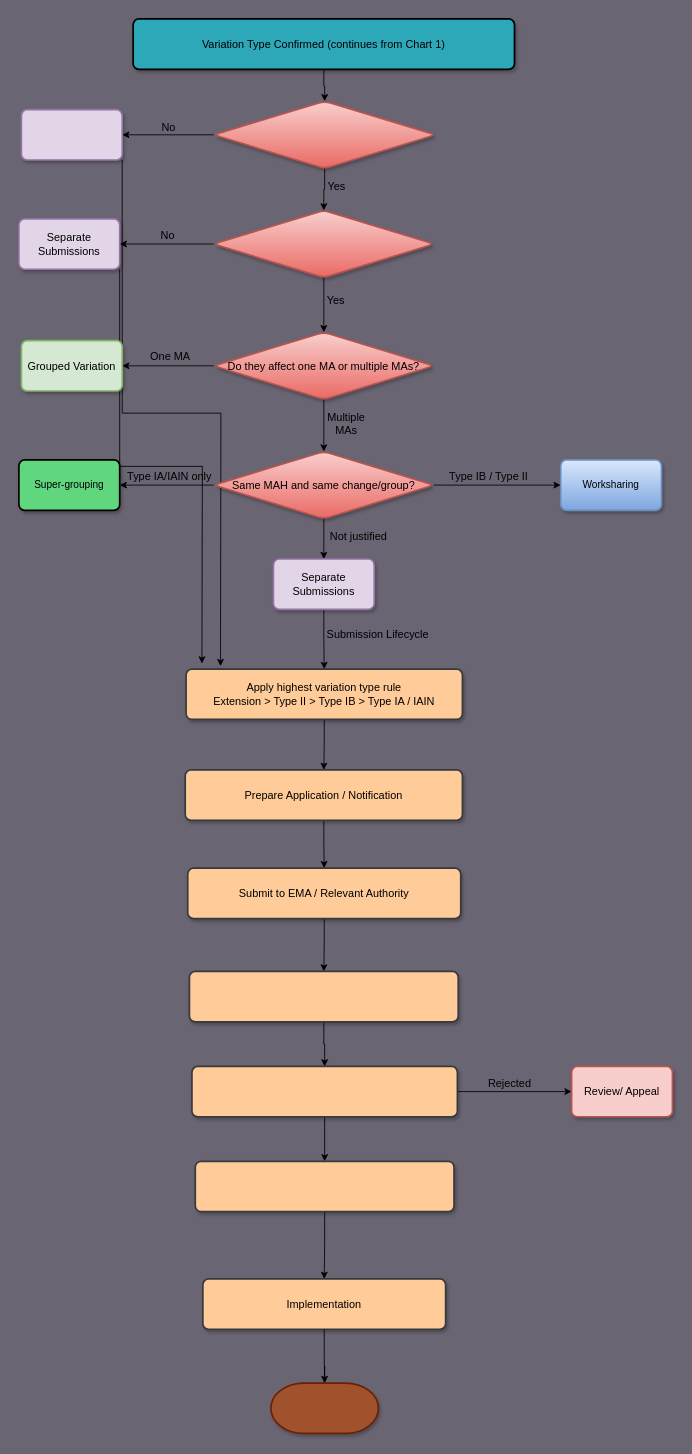
Some shapes in this 692 by 1454 pixel diagram are drawn without their labels. Each missing label, with the centre of its shape:
Agency Review / Notification Outcome: the point at 324,997
Approval / Acceptance / Rejection: the point at 325,1092
Approved: the point at 325,1187
Archive: the point at 325,1409
Are changes related / consequential?: the point at 324,245
Can the variation be grouped?: the point at 325,136
Standalone Submission: the point at 72,135
